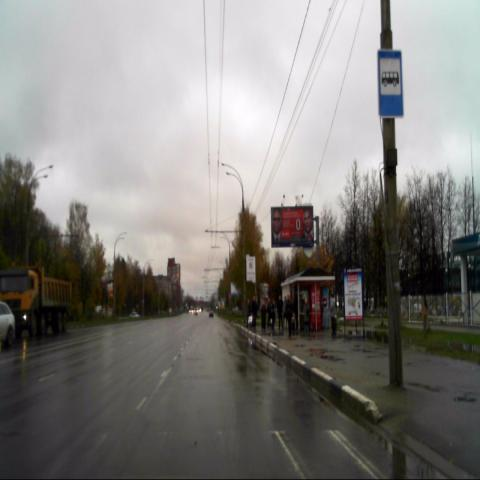5_16: (378, 49, 402, 118)
